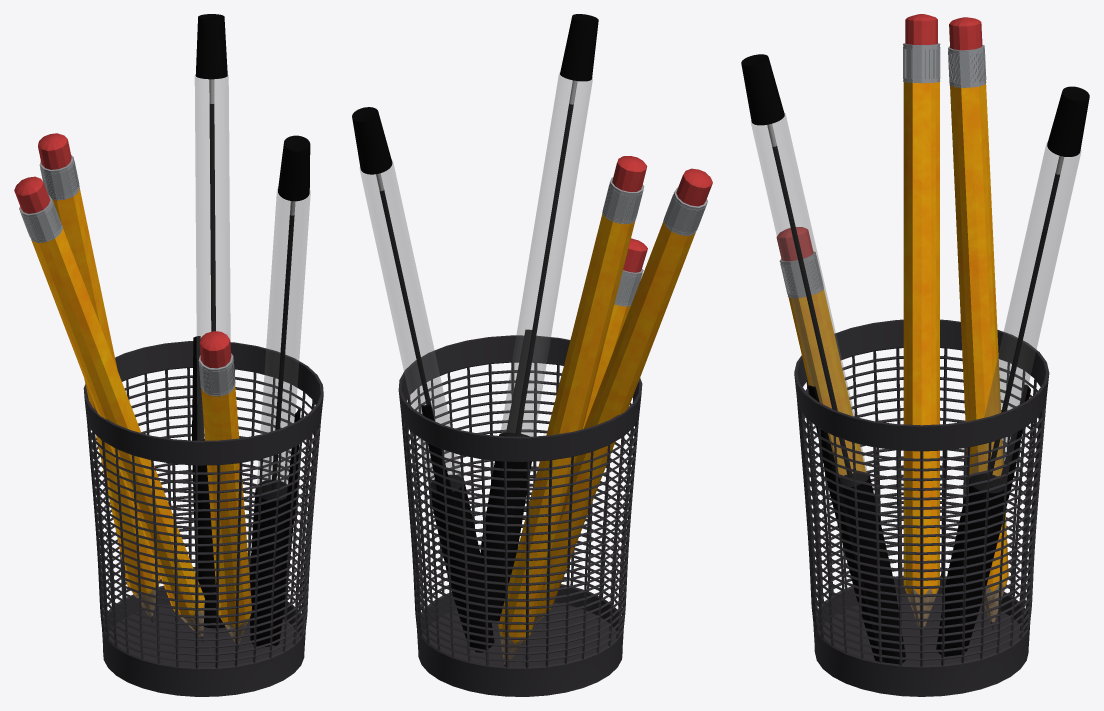
File: penholder.glb
3 renders of one model, left to right at view 1: azimuth 30°, elevation 25°; view 2: azimuth 150°, elevation 25°; view 3: azimuth 270°, elevation 25°, orthographic. The views are drawn at different scales.
Parts seen in each view (by area): view 1: PenHolder, Pencils, BlackBallPen; view 2: PenHolder, BlackBallPen, Pencils; view 3: PenHolder, Pencils, BlackBallPen.
Part boxes in pixels (bbox=[...]): PenHolder: bbox=[83, 341, 323, 696]; Pencils: bbox=[14, 133, 251, 649]; BlackBallPen: bbox=[192, 14, 310, 646]; PenHolder: bbox=[398, 335, 642, 696]; BlackBallPen: bbox=[352, 14, 598, 652]; Pencils: bbox=[498, 156, 712, 666]; PenHolder: bbox=[794, 319, 1049, 696]; Pencils: bbox=[776, 14, 1008, 632]; BlackBallPen: bbox=[741, 54, 1089, 664].
Bounding box in the file's own units: 0.0622 × 0.1158 × 0.0607.
11 materials, 4 textured.
